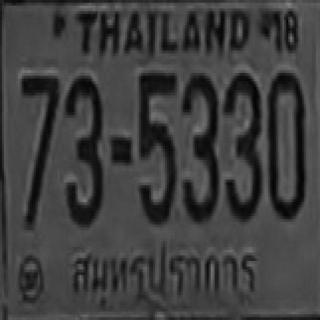N00: (266, 72, 304, 218)
N03: (180, 72, 218, 220), (64, 74, 101, 223), (223, 70, 260, 219)
N05: (137, 70, 175, 222)
N07: (20, 73, 58, 219), (20, 73, 58, 185), (20, 73, 58, 168)
P57: (66, 237, 269, 316)
